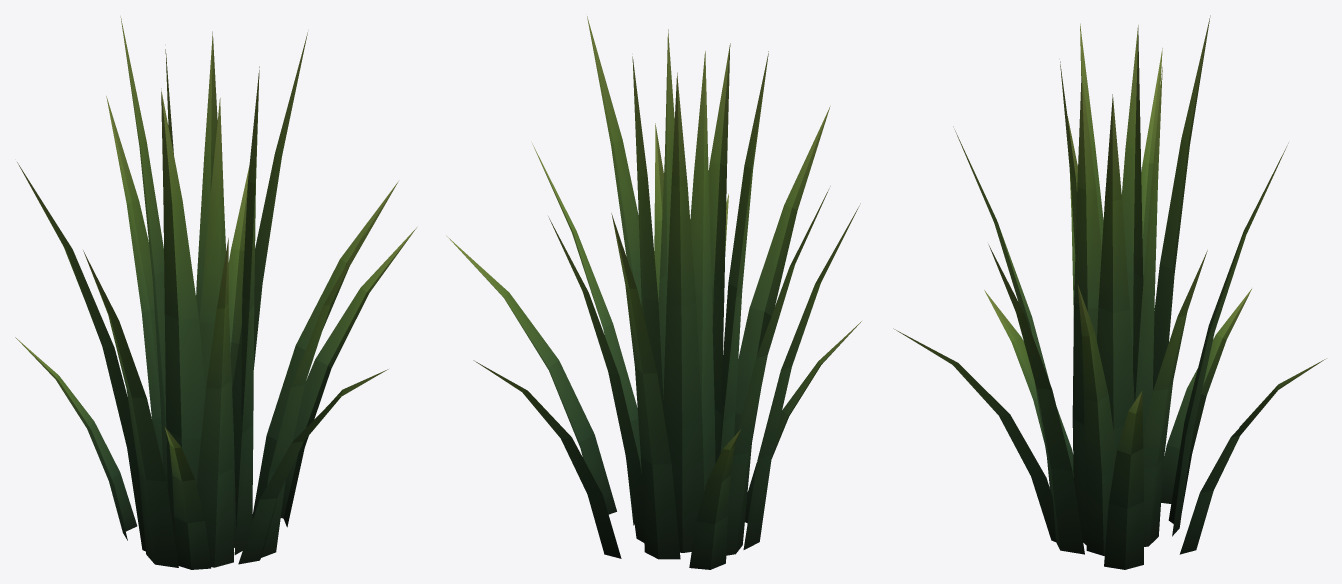
Rendered from grass_tuft.glb.
3 views of the same model, side by side, from view 1: azimuth 30°, elevation 25°; view 2: azimuth 150°, elevation 25°; view 3: azimuth 270°, elevation 25° (orthographic).
Visible parts, largest first — view 1: GrassTuft; view 2: GrassTuft; view 3: GrassTuft.
Boxes of the visible parts, left/top/right/bottom form: GrassTuft: left=15, top=16, right=416, bottom=569; GrassTuft: left=446, top=16, right=861, bottom=569; GrassTuft: left=893, top=15, right=1326, bottom=569.
Size of the model in its own units: 0.6325 by 0.7741 by 0.6137.
